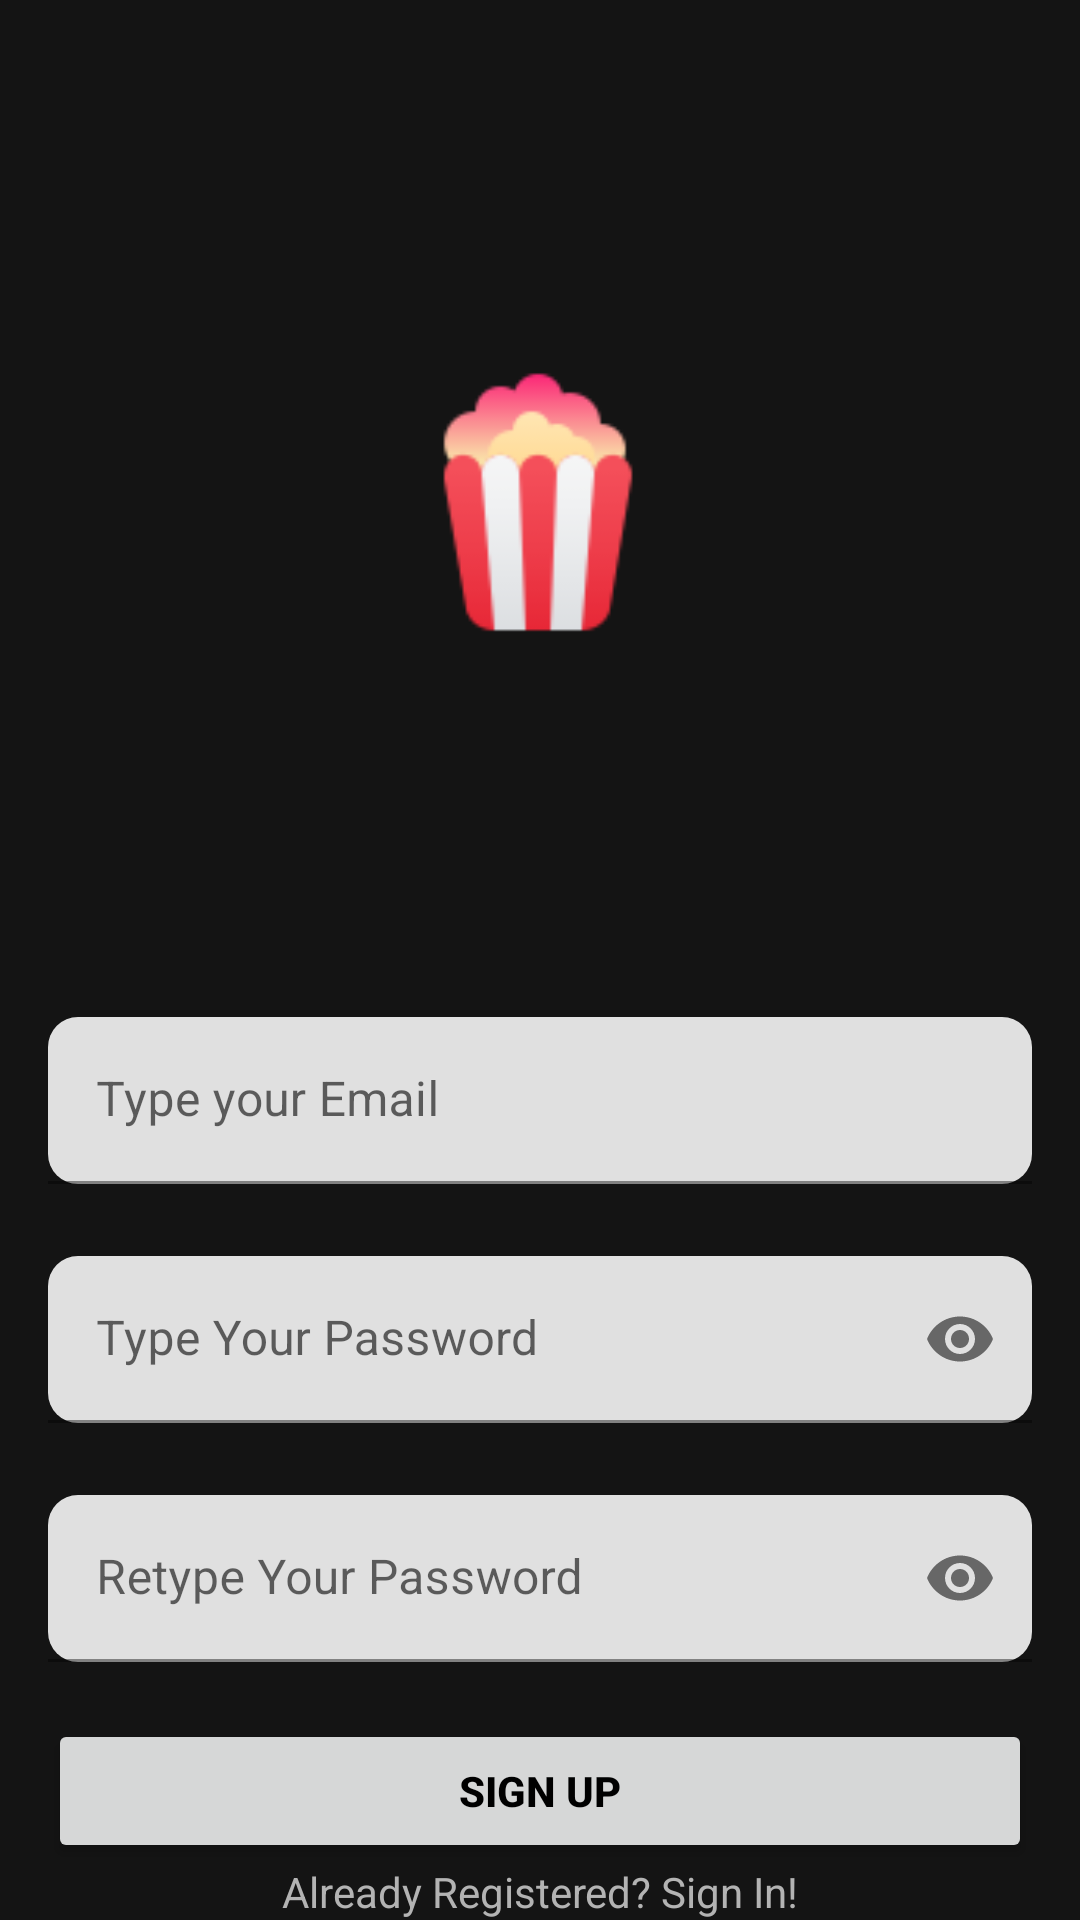

Named icons in this screenshot (1080px x 1920px) and their bounding boxes, (x1, y1, x2, y2):
popconr: (443, 373, 633, 631)
